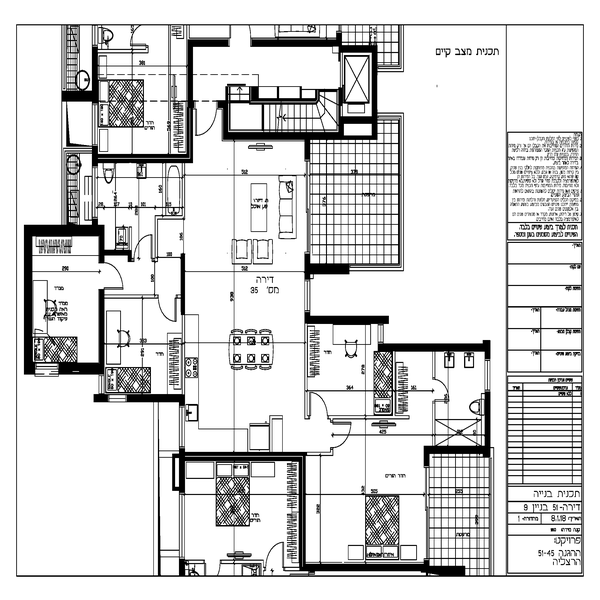door: (260, 538, 296, 579), (187, 98, 223, 138), (91, 257, 129, 294), (152, 288, 181, 323), (427, 374, 457, 404), (130, 234, 161, 260), (336, 421, 357, 452), (310, 394, 329, 414)
room: (176, 134, 314, 460), (187, 34, 346, 138), (297, 315, 394, 463), (21, 224, 109, 375), (376, 344, 495, 452), (97, 290, 189, 407)
wall: (177, 449, 304, 467), (301, 558, 428, 576), (22, 225, 37, 375), (297, 453, 311, 568), (250, 36, 342, 53), (186, 34, 198, 163), (375, 342, 492, 355), (369, 43, 384, 141), (94, 149, 191, 164), (224, 129, 340, 141), (22, 224, 107, 239), (303, 312, 389, 325), (423, 442, 490, 458), (123, 389, 185, 405), (95, 285, 107, 366), (252, 94, 320, 106), (60, 361, 105, 379), (219, 92, 237, 135), (302, 260, 352, 274), (178, 250, 188, 316), (484, 392, 494, 455), (97, 222, 110, 261), (97, 245, 131, 259)
window: (302, 282, 313, 322), (35, 359, 60, 376), (107, 388, 126, 404)
